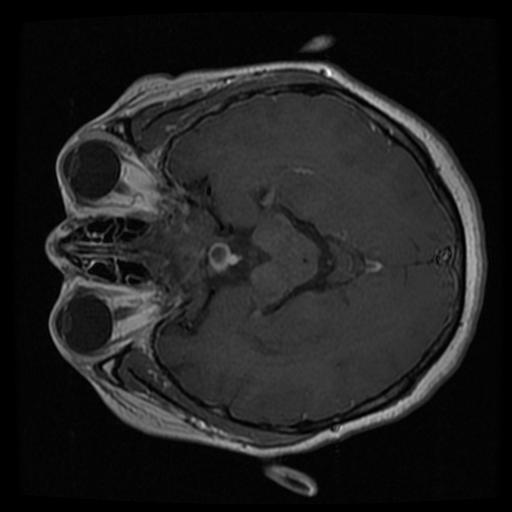pituitary tumour: (207, 243, 241, 272)
